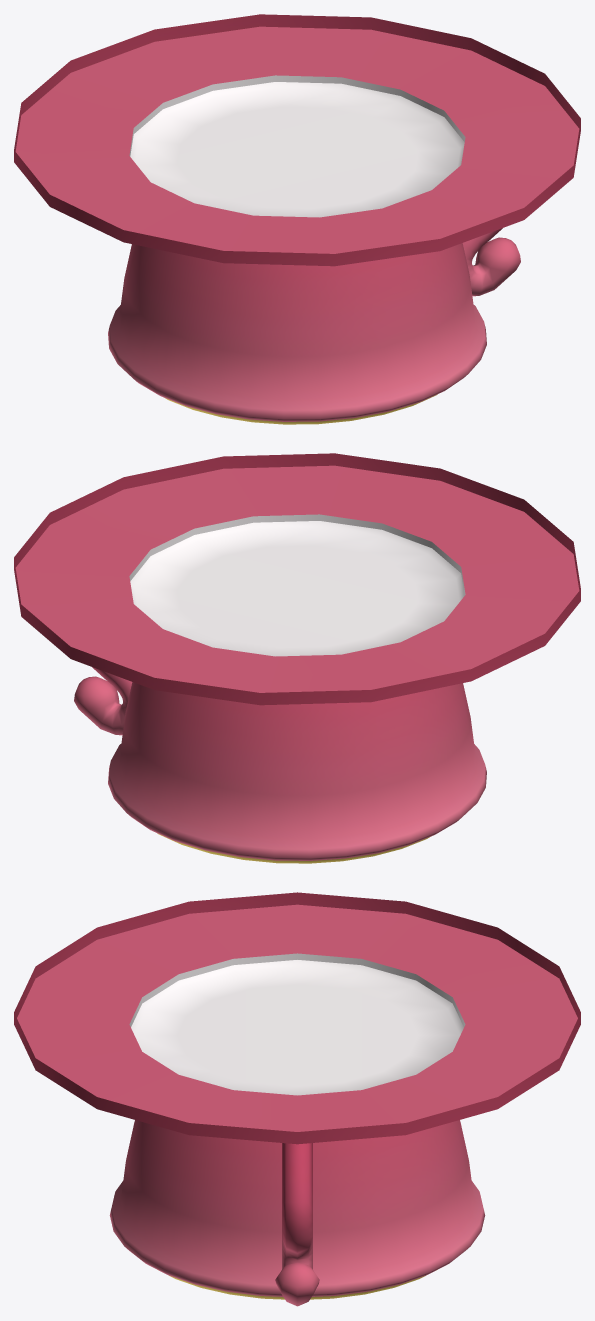
File: Doll_Room_Cup_001.fbx
3 renders of one model, top to bottom at view 1: azimuth 30°, elevation 25°; view 2: azimuth 150°, elevation 25°; view 3: azimuth 270°, elevation 25°, orthographic.
Visible parts, largest first — view 1: Doll_Room_Cup_001, Doll_Room_Cup_001_1; view 2: Doll_Room_Cup_001, Doll_Room_Cup_001_1; view 3: Doll_Room_Cup_001, Doll_Room_Cup_001_1.
Boxes of the visible parts, x1,y1,x2,y2 form: Doll_Room_Cup_001: [14, 14, 580, 421]; Doll_Room_Cup_001_1: [129, 75, 465, 424]; Doll_Room_Cup_001: [14, 453, 580, 860]; Doll_Room_Cup_001_1: [129, 514, 465, 863]; Doll_Room_Cup_001: [14, 892, 580, 1306]; Doll_Room_Cup_001_1: [129, 953, 465, 1299].
Bounding box in the file's own units: 54.6 × 22.88 × 54.6.
Materials: 1 (1 with a texture image).
